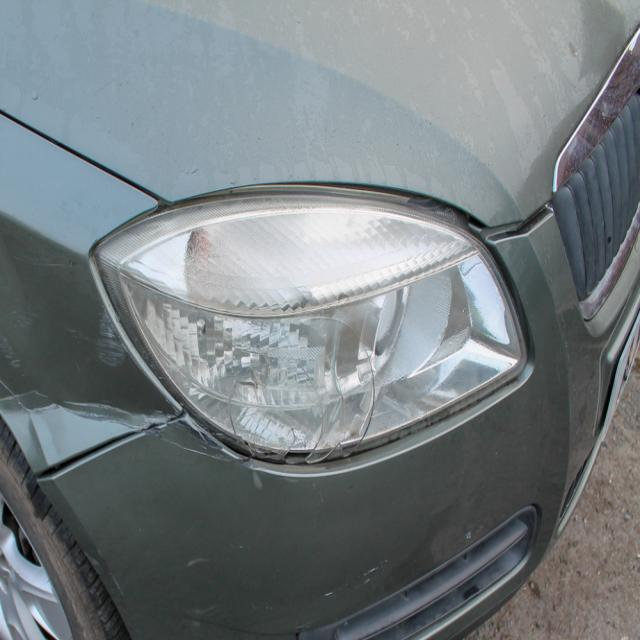dent: (0, 212, 180, 467)
lamp broken: (85, 189, 527, 467)
